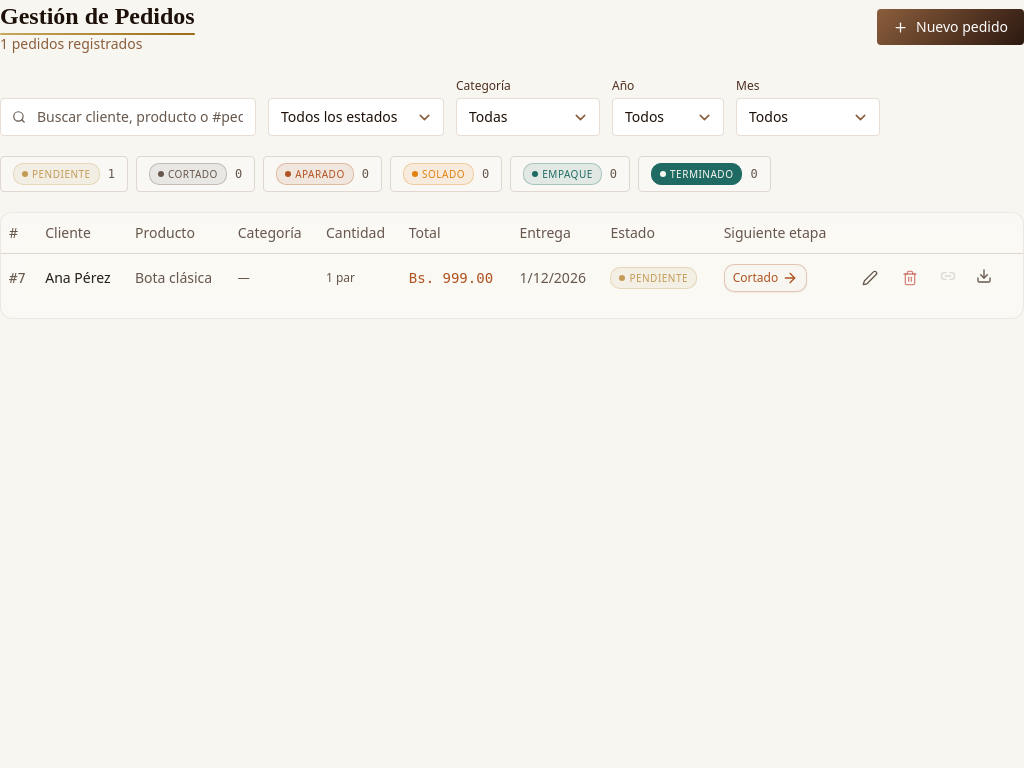
Test case: PedidosView — abrir "Nuevo pedido" tras editar (remount del modal) › no arrastra los datos del pedido editado previamente
Expected: the text "#7" is shown, [1,253,37,302]
What coordinates should you click on to do the following:
click the button with class "hover"
I would click on:
 (870, 278)
Its box is [854,262,886,294].
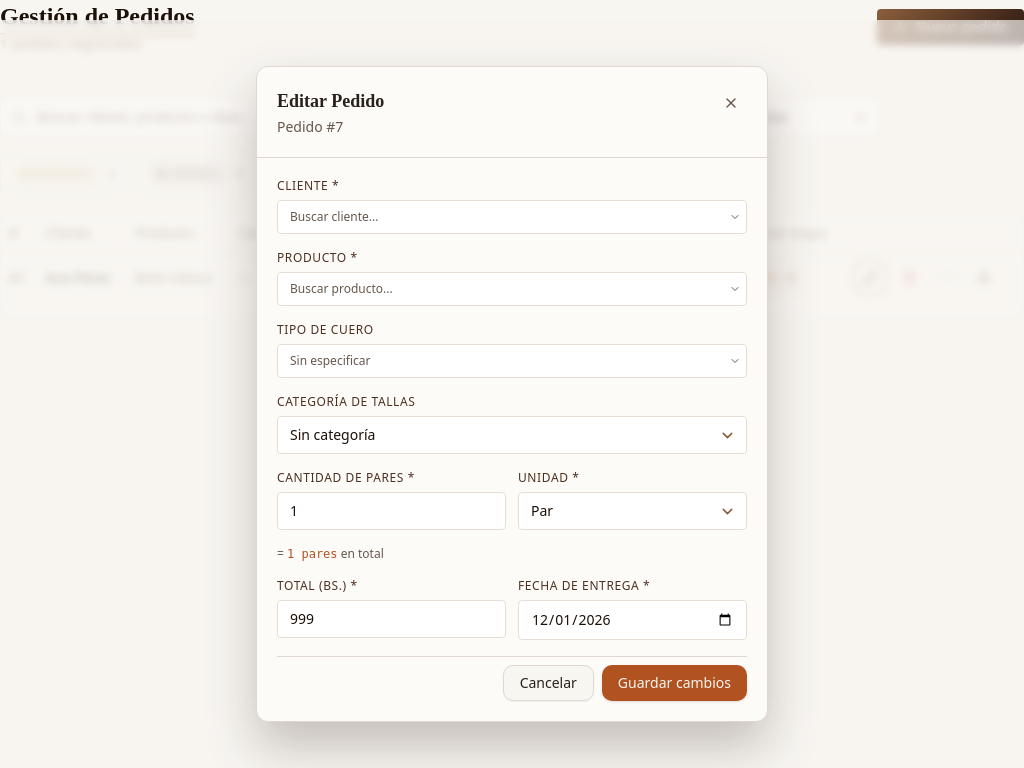
Expected: the heading "Editar Pedido" is shown, [277,87,384,115]
Expected: the number field showing "999" below "Total (Bs.) *" is shown, [277,600,506,638]
What coordinates should you click on to do the following:
click the button "Cancelar"
I would click on:
 (548, 683)
Its box is [503,665,594,701].
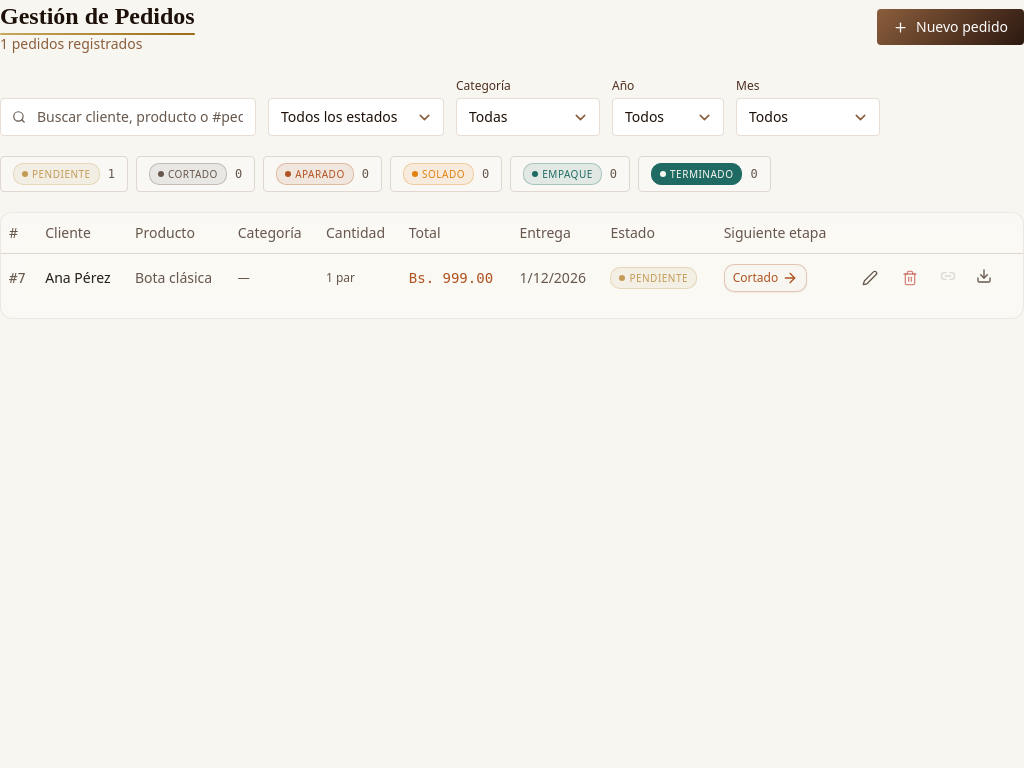
What coordinates should you click on to do the following:
click the button "Nuevo pedido"
I would click on:
 (950, 27)
Its box is [877,9,1023,45].
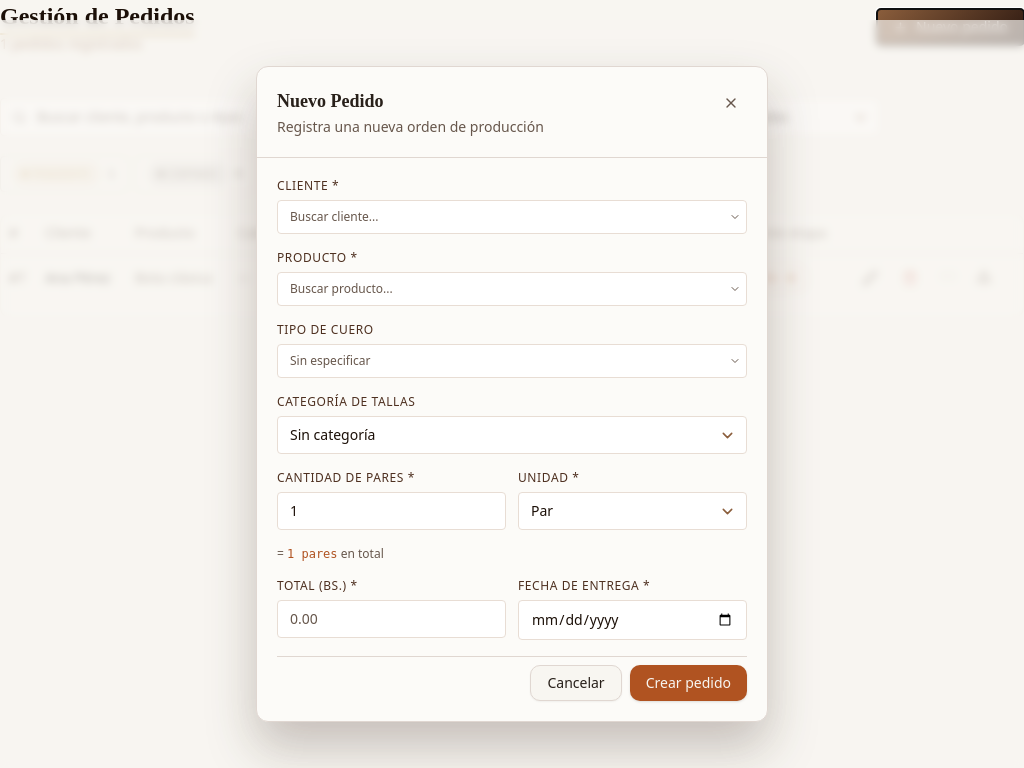
Expected: the heading "Nuevo Pedido" is shown, [277,91,384,111]
